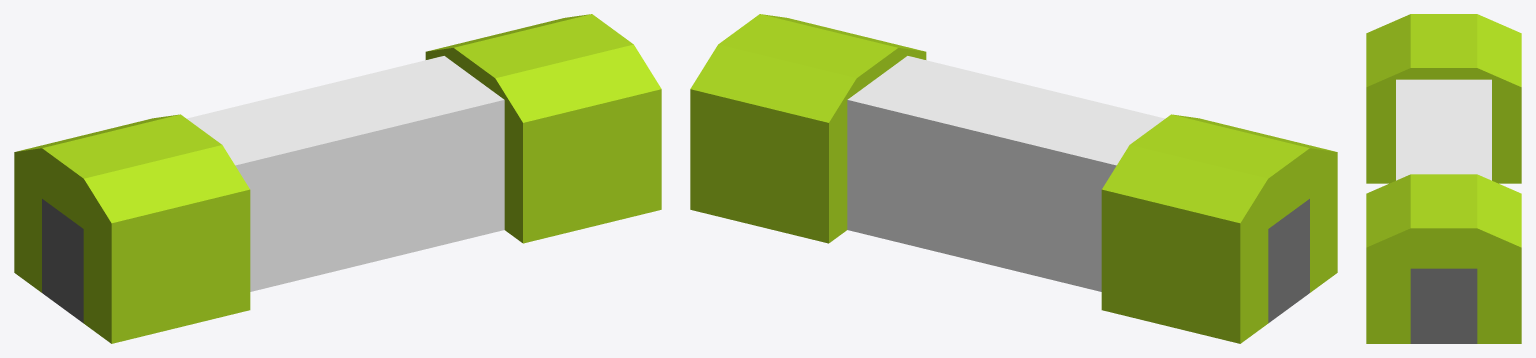
The model's file is 外星房屋4.fbx.
3 views of the same model, side by side, from view 1: azimuth 30°, elevation 25°; view 2: azimuth 150°, elevation 25°; view 3: azimuth 270°, elevation 25° (orthographic). The views are drawn at different scales.
Visible parts, largest first — view 1: 外星建築4防護罩, 外星建築4, 外星建築4另一邊; view 2: 外星建築4防護罩, 外星建築4, 外星建築4另一邊; view 3: 外星建築4另一邊, 外星建築4, 外星建築4防護罩.
Boxes of the visible parts, box(x1,y1,x2,y2) form: 外星建築4防護罩: box(187, 56, 504, 291); 外星建築4: box(14, 114, 250, 343); 外星建築4另一邊: box(425, 14, 661, 243); 外星建築4防護罩: box(847, 56, 1164, 291); 外星建築4: box(1101, 114, 1337, 343); 外星建築4另一邊: box(690, 14, 926, 243); 外星建築4另一邊: box(1366, 174, 1521, 343); 外星建築4: box(1366, 14, 1521, 183); 外星建築4防護罩: box(1396, 79, 1491, 180).
Size of the model in its own units: 685 by 173 by 210.
Materials: 2 (1 with a texture image).
